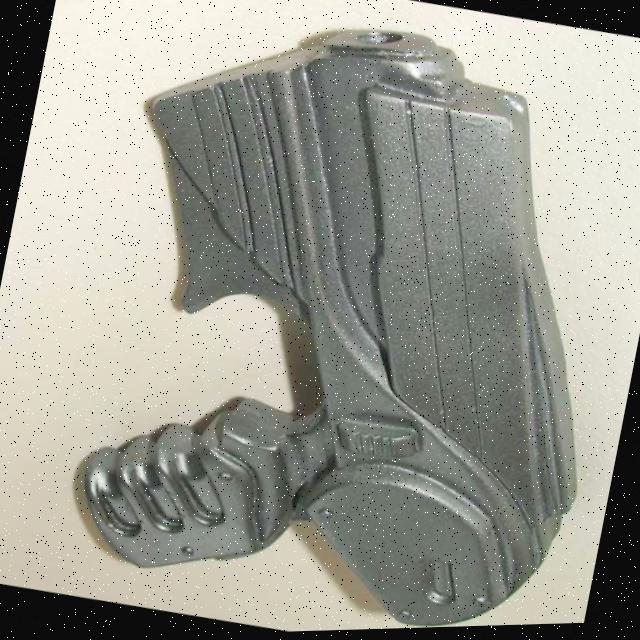pistol: (57, 0, 640, 639)
